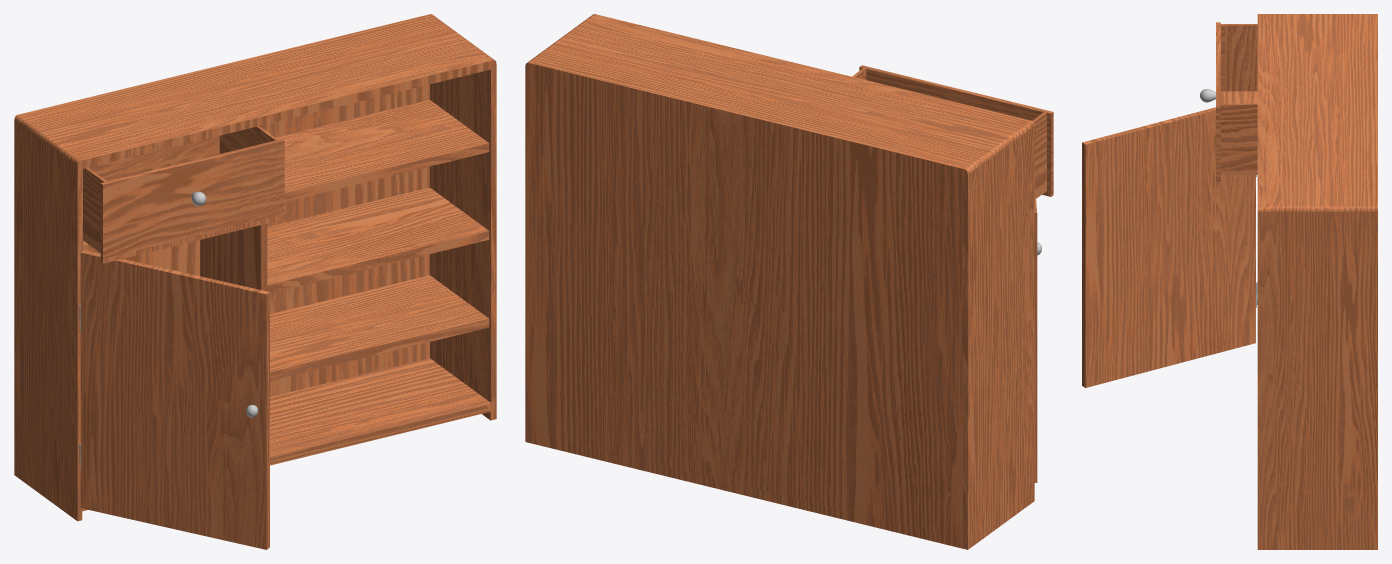
Rendered from Drawers 001.fbx.
3 views of the same model, side by side, from view 1: azimuth 30°, elevation 25°; view 2: azimuth 150°, elevation 25°; view 3: azimuth 270°, elevation 25° (orthographic). The views are drawn at different scales.
Parts seen in each view (by area): view 1: Cylinder, Cylinder.002, Sphere, Cube.002, Cube.004, Cube.001; view 2: Cylinder, Sphere, Cylinder.002; view 3: Cylinder, Cylinder.002, Sphere.
Part boxes in pixels (x1=…): Cylinder: x1=14, y1=14, x2=496, y2=521; Cylinder.002: x1=79, y1=250, x2=269, y2=549; Sphere: x1=83, y1=125, x2=284, y2=263; Cube.002: x1=267, y1=187, x2=489, y2=292; Cube.004: x1=270, y1=275, x2=489, y2=380; Cube.001: x1=275, y1=100, x2=489, y2=201; Cylinder: x1=525, y1=14, x2=1034, y2=549; Sphere: x1=852, y1=65, x2=1053, y2=199; Cylinder.002: x1=1034, y1=199, x2=1041, y2=482; Cylinder: x1=1256, y1=14, x2=1377, y2=549; Cylinder.002: x1=1082, y1=107, x2=1257, y2=387; Sphere: x1=1200, y1=22, x2=1257, y2=181.
Size of the model in its own units: 150 by 123 by 96.31.
